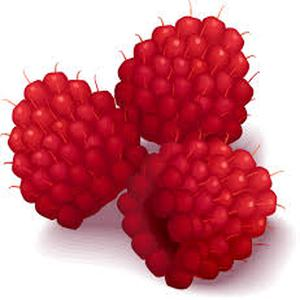raspb: (2, 14, 287, 290)
